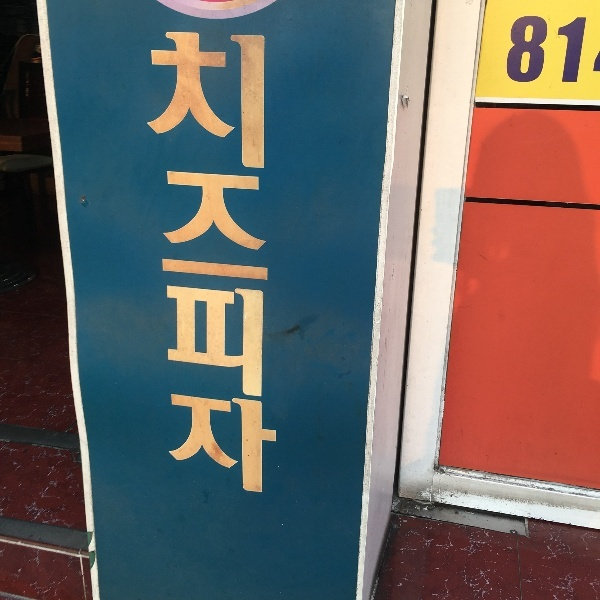text: (145, 31, 160, 509), (161, 31, 176, 509), (177, 31, 192, 509), (193, 31, 208, 509), (209, 31, 224, 509), (225, 31, 240, 509), (241, 31, 256, 509), (257, 31, 272, 509), (273, 31, 281, 509), (140, 31, 144, 509), (513, 15, 528, 86), (529, 15, 544, 86), (545, 15, 560, 86), (561, 15, 576, 86), (577, 15, 588, 86), (510, 15, 512, 86), (599, 50, 600, 75)
